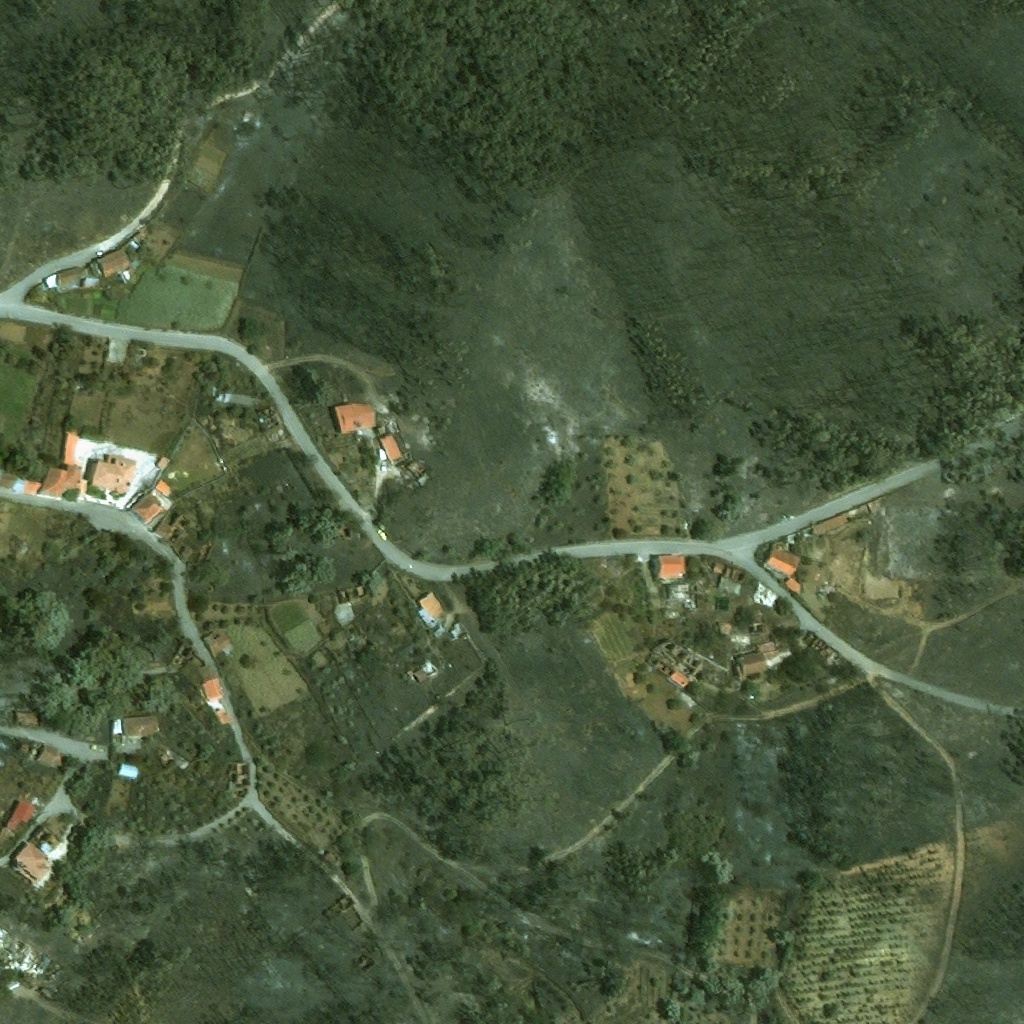0 no-damage: (23, 463, 83, 499), (90, 455, 137, 495), (130, 487, 173, 525), (43, 266, 88, 293), (96, 247, 131, 278), (193, 664, 222, 700), (764, 546, 798, 576), (652, 554, 686, 579), (814, 514, 848, 537), (125, 226, 151, 254), (122, 715, 155, 735), (786, 526, 815, 546), (61, 434, 78, 463), (712, 633, 734, 654), (117, 762, 139, 779), (784, 578, 801, 593), (154, 480, 170, 495), (0, 473, 14, 490), (110, 718, 123, 736), (218, 709, 233, 724), (154, 455, 169, 470), (11, 478, 26, 493), (78, 276, 96, 287), (77, 478, 90, 492), (122, 269, 132, 281)
1 minor-damage: (10, 841, 50, 884), (737, 640, 783, 675), (335, 401, 378, 432), (201, 629, 233, 658)
2 major-damage: (0, 789, 46, 848), (375, 421, 403, 460), (417, 592, 443, 626), (28, 740, 59, 765), (647, 653, 676, 676), (32, 827, 57, 852), (670, 670, 691, 688), (16, 738, 34, 757)
3 destroyed: (0, 916, 62, 990), (151, 512, 195, 546), (748, 581, 782, 615), (802, 631, 837, 664), (713, 561, 748, 594), (653, 641, 689, 665), (410, 656, 439, 684), (168, 642, 195, 670), (406, 459, 434, 486), (11, 707, 47, 728), (227, 763, 250, 792), (337, 584, 370, 604), (678, 650, 704, 675), (197, 535, 221, 562), (258, 405, 282, 431), (215, 392, 253, 406), (106, 339, 128, 363), (666, 582, 692, 602), (448, 621, 469, 642), (37, 983, 56, 1001), (158, 747, 177, 765), (176, 545, 194, 563), (346, 630, 363, 647), (336, 526, 352, 543), (430, 625, 446, 641), (746, 616, 763, 627), (241, 107, 255, 120), (855, 504, 870, 516), (827, 587, 839, 599), (684, 602, 693, 609)
